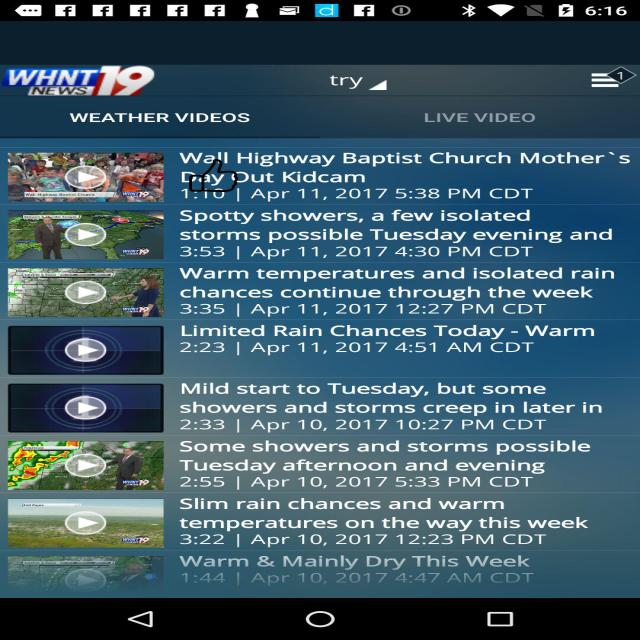privacy zuckering: (188, 159, 239, 192)
